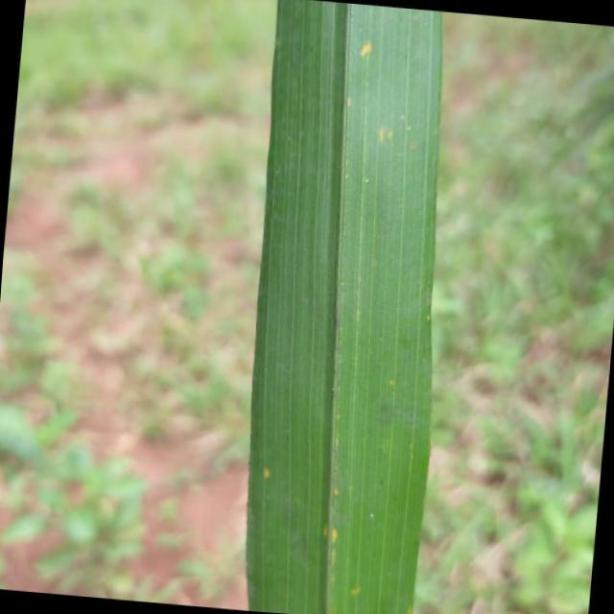Kalium: (245, 0, 440, 614)
